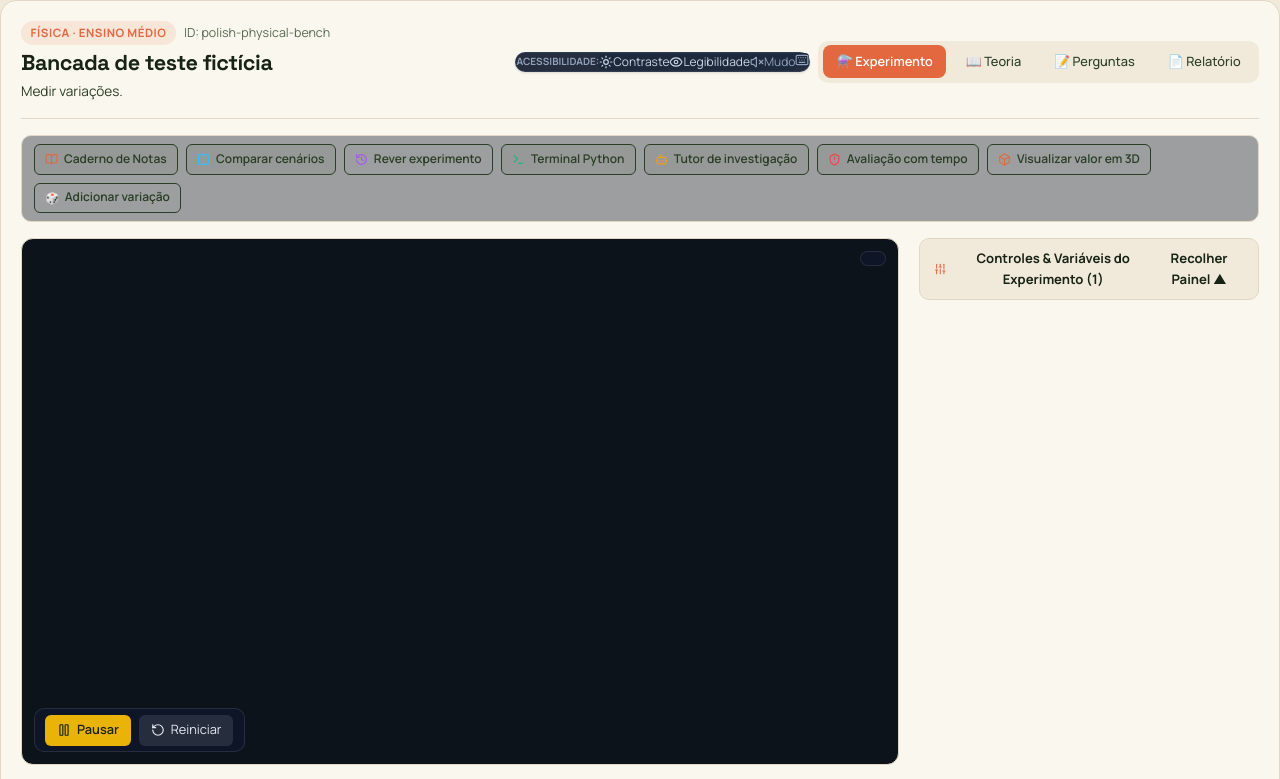
Scenario: Continuidade e sentido da bancada › não confirma cópia rejeitada nem laudo100% sem avaliação
Step 1. Click the button "📄 Relatório" → (1204, 62), box 1154,45 -> 1254,78
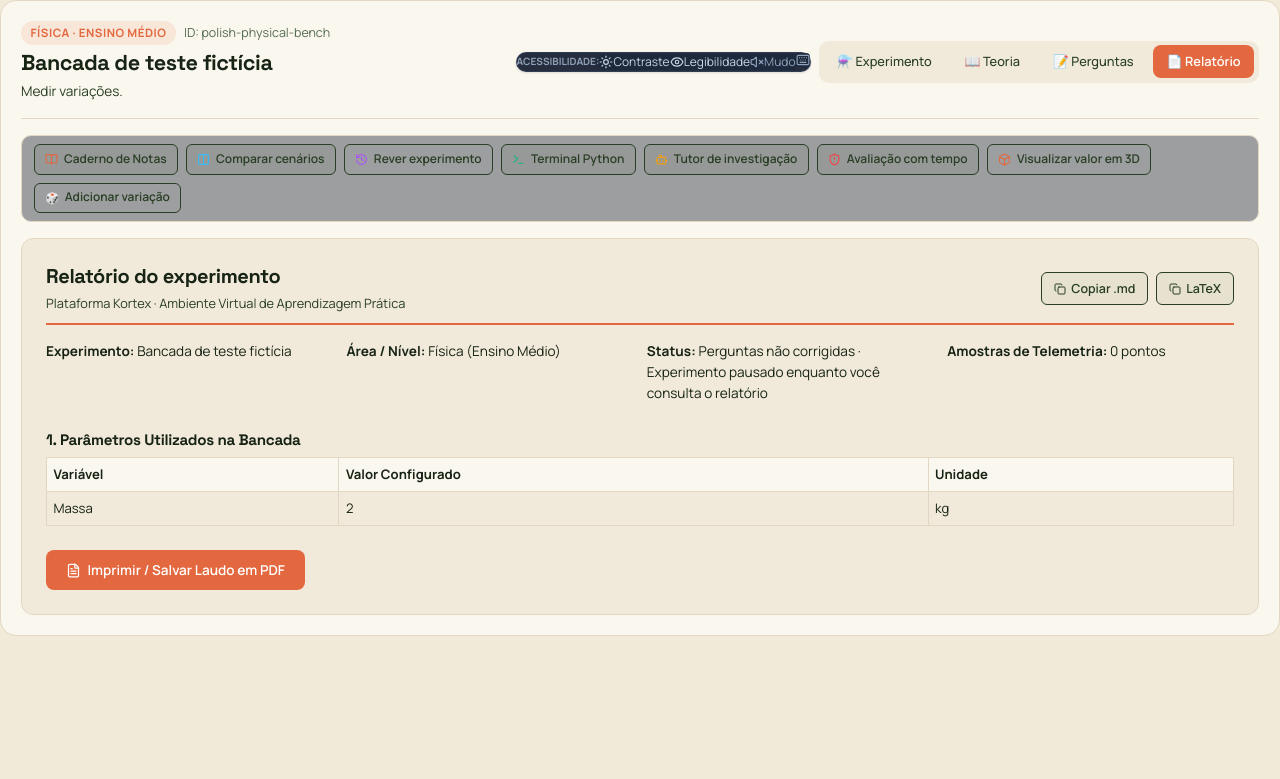
Step 2. Click the button "Copiar .md" → (1095, 289), box 1042,272 -> 1148,305
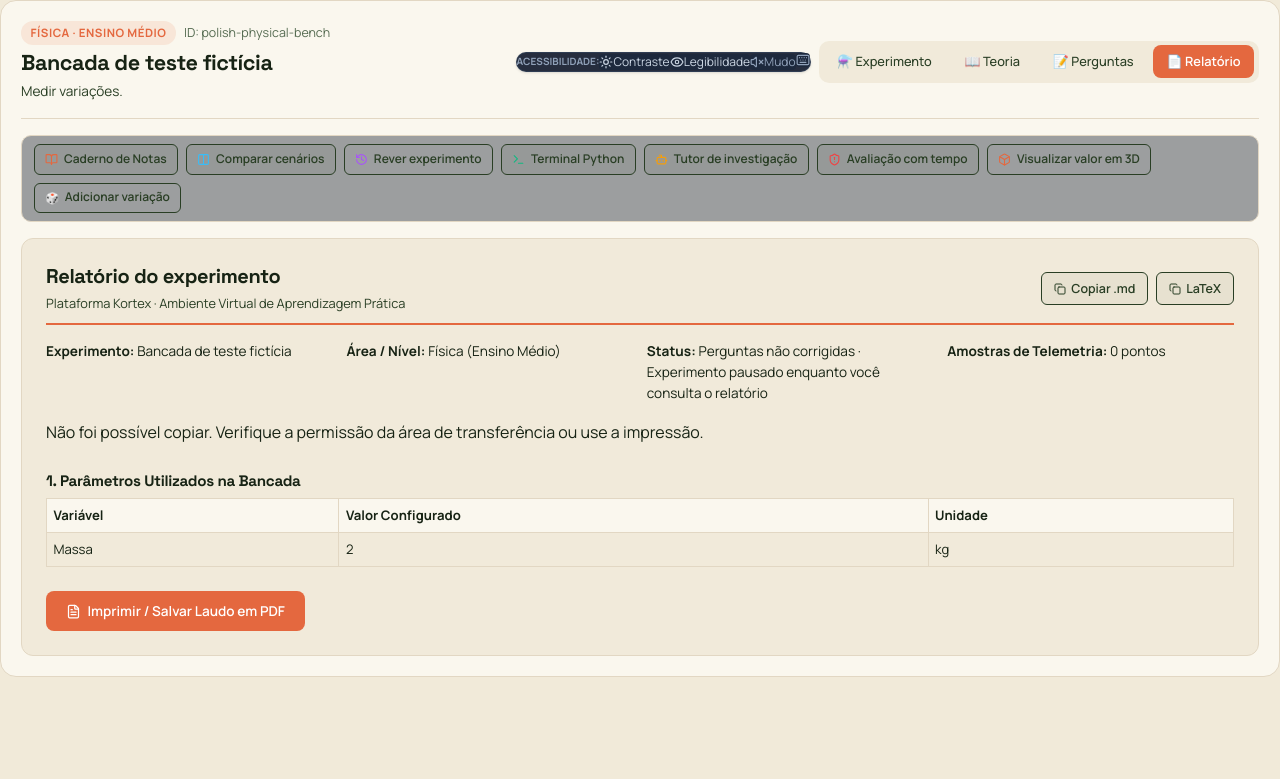
Now the text "Não foi possível copiar" is shown, box 46,421 -> 704,443
